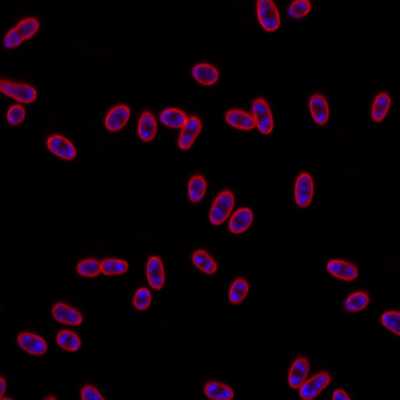MP265: (74, 256, 129, 278), (208, 189, 238, 226), (298, 370, 334, 399), (177, 115, 205, 150), (45, 133, 79, 161), (250, 97, 275, 135), (101, 103, 131, 133), (286, 354, 310, 390), (50, 301, 83, 327), (16, 331, 49, 357), (228, 205, 257, 234), (308, 91, 332, 126), (223, 106, 256, 131), (327, 257, 359, 282), (294, 171, 315, 209), (191, 248, 219, 275), (136, 110, 158, 143), (190, 61, 219, 86), (54, 329, 83, 354), (146, 256, 166, 292), (370, 91, 392, 122), (204, 379, 236, 400), (158, 106, 187, 129), (227, 276, 250, 304), (131, 286, 153, 312)
Oblique: (3, 15, 42, 50), (0, 76, 39, 105), (185, 173, 208, 208), (342, 292, 370, 313), (5, 103, 26, 127)
